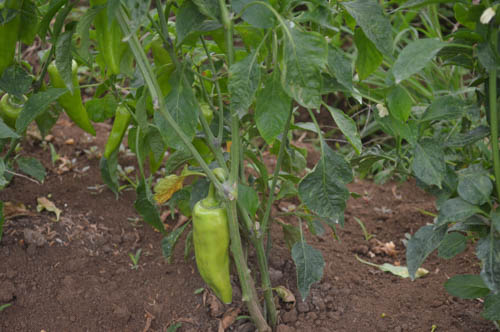ChiliPepper: (192, 202, 234, 309), (49, 63, 95, 134), (90, 5, 120, 73), (102, 110, 129, 161)
